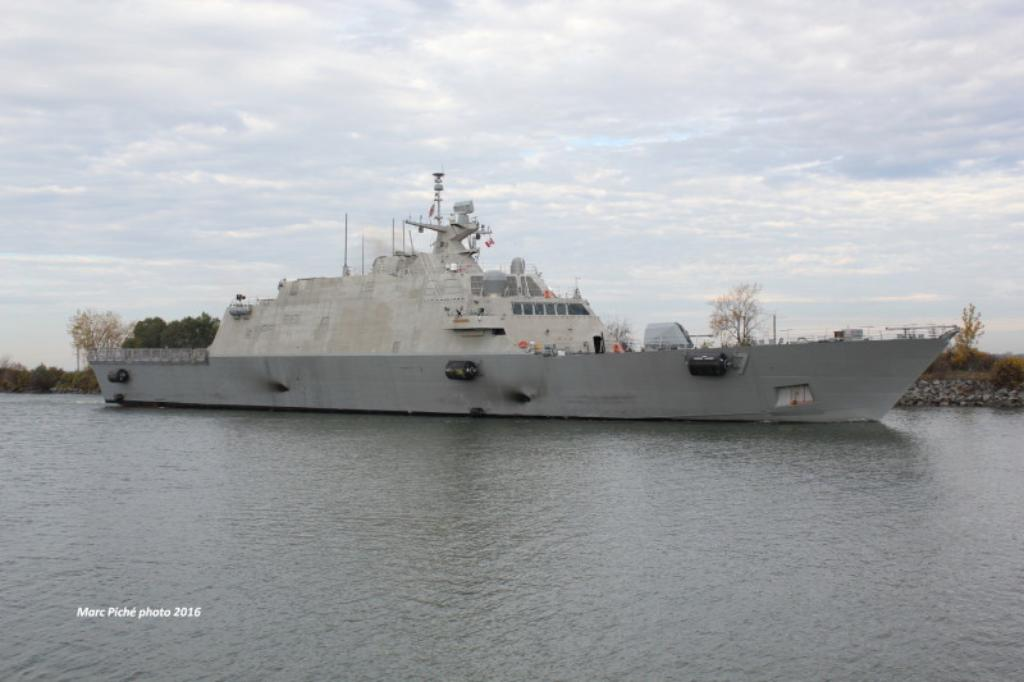Warship: (82, 166, 962, 428)
